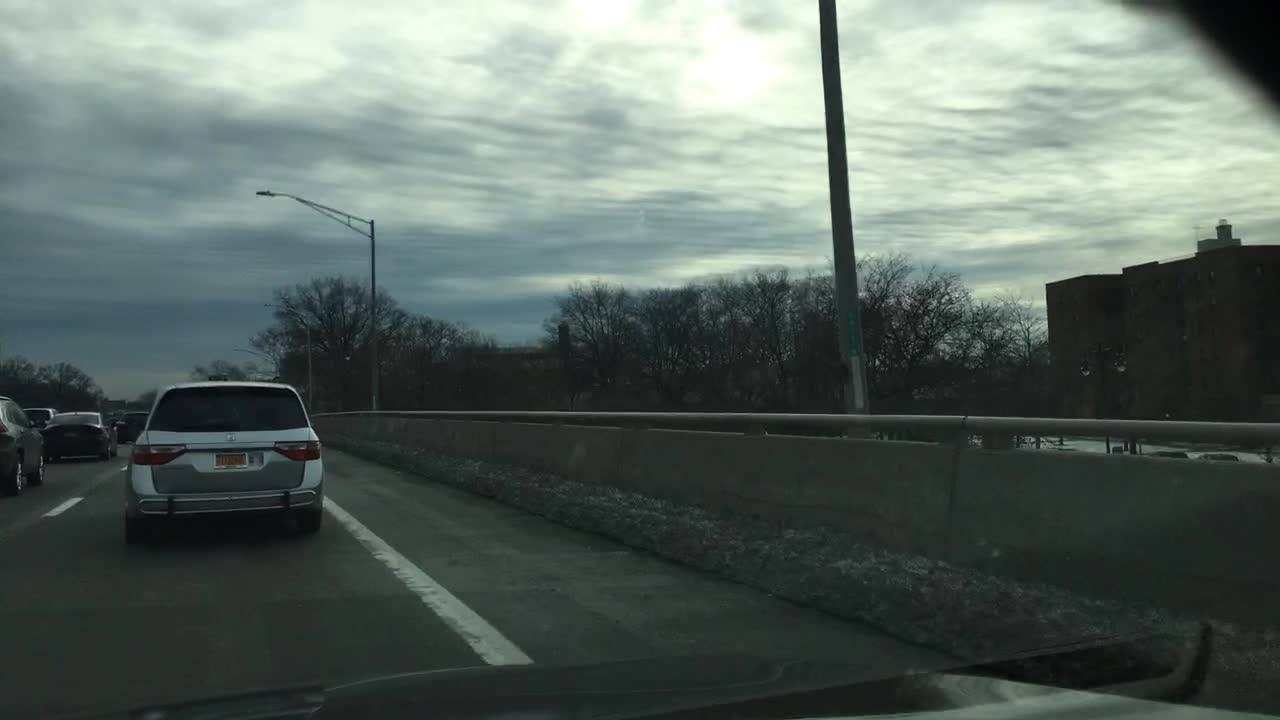car: (123, 377, 325, 548), (0, 393, 46, 497), (43, 410, 117, 463), (113, 410, 146, 448), (15, 408, 53, 424)
